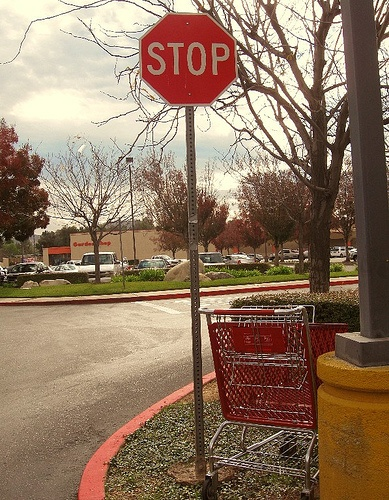car: (198, 252, 389, 500), (151, 255, 328, 500), (137, 258, 308, 500), (223, 255, 389, 500), (247, 254, 389, 500), (79, 252, 200, 500), (50, 263, 128, 500), (0, 265, 9, 500)
stop sign: (139, 12, 376, 119)
